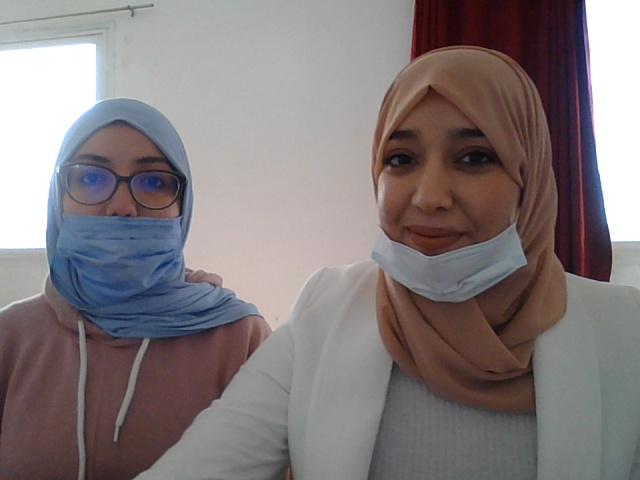mask_weared_incorrect: (347, 46, 554, 310), (45, 107, 220, 308)
